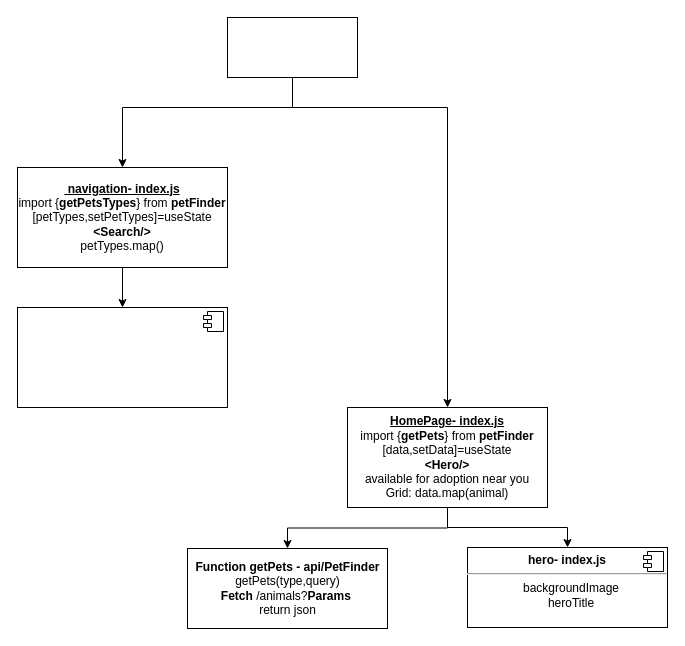
Image size: 685x646. Some labels were removed from this diagram. Each missing label, with the box of its shape:
app.js <Navigation /> <HomePage />: (226, 16, 358, 78)
Search - index.js import useRef from react <input > search <button> submit: (16, 306, 228, 408)
